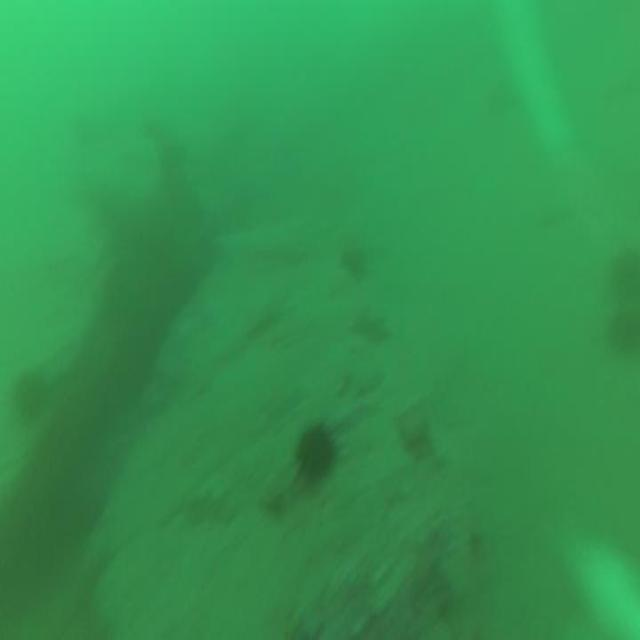echinus: (291, 409, 344, 493)
